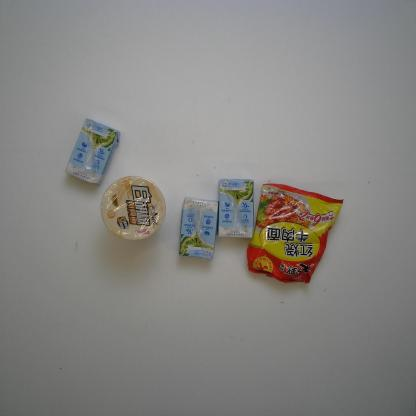Instant Noodles: (246, 183, 344, 284), (100, 176, 166, 240)
Milk: (64, 118, 120, 185), (178, 197, 219, 259), (218, 178, 254, 238)
